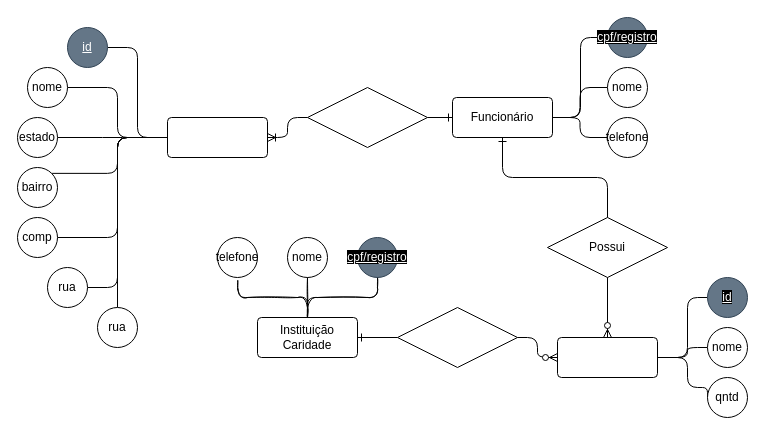
This 765x435 diagram has some shape labels left out. The box of each missing label's shape, as (x1, y1, x2, y2) in pixels:
Alimento: (556, 336, 658, 378)
Instituição Forncedora: (166, 116, 268, 158)
Recebe: (396, 306, 518, 368)
Trabalha em: (306, 86, 428, 148)
